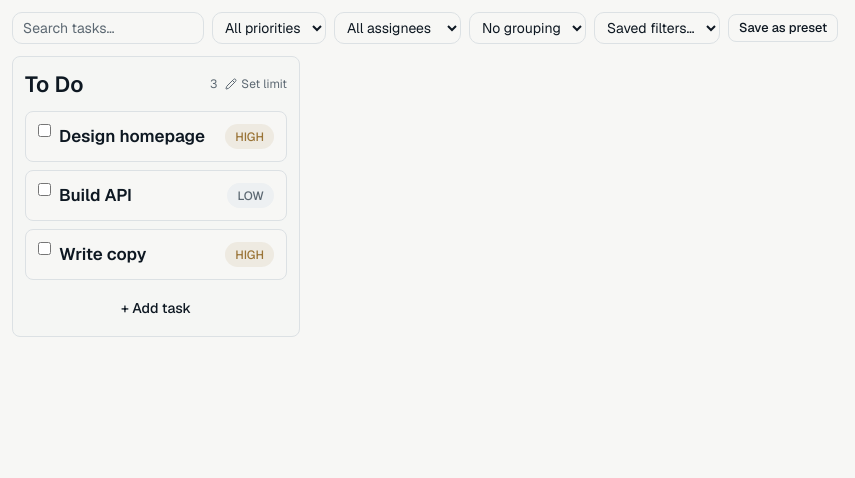
Test: KanbanBoard swimlanes › groups tasks into swimlanes by assignee
The width and height of the screenshot is (855, 478).
Select "Assignee" in the dropdown named "Group by" at (528, 28), box [469, 12, 586, 44]
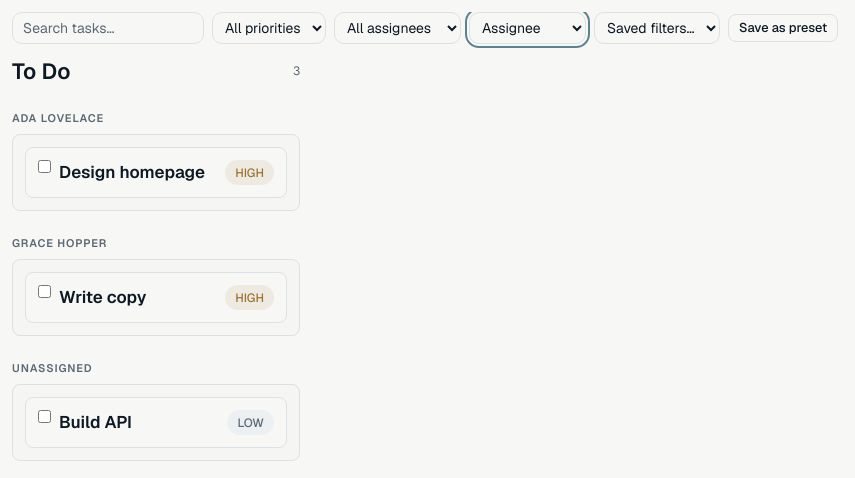
Expected: the heading "Design homepage" is shown, [59, 160, 205, 185]
Result: the heading "Write copy" is shown at [59, 285, 146, 310]
Result: the heading "Build API" is shown at [59, 410, 132, 435]
